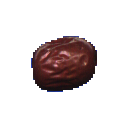gd: (25, 27, 102, 110)
